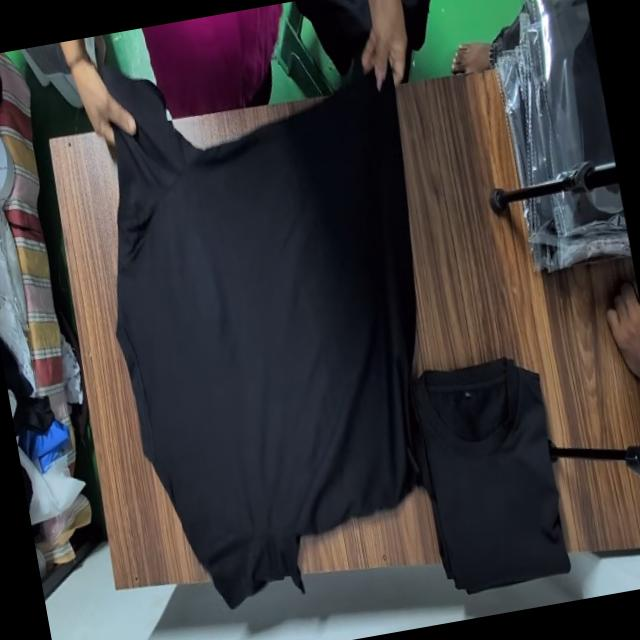new-garment: (105, 72, 415, 606)
